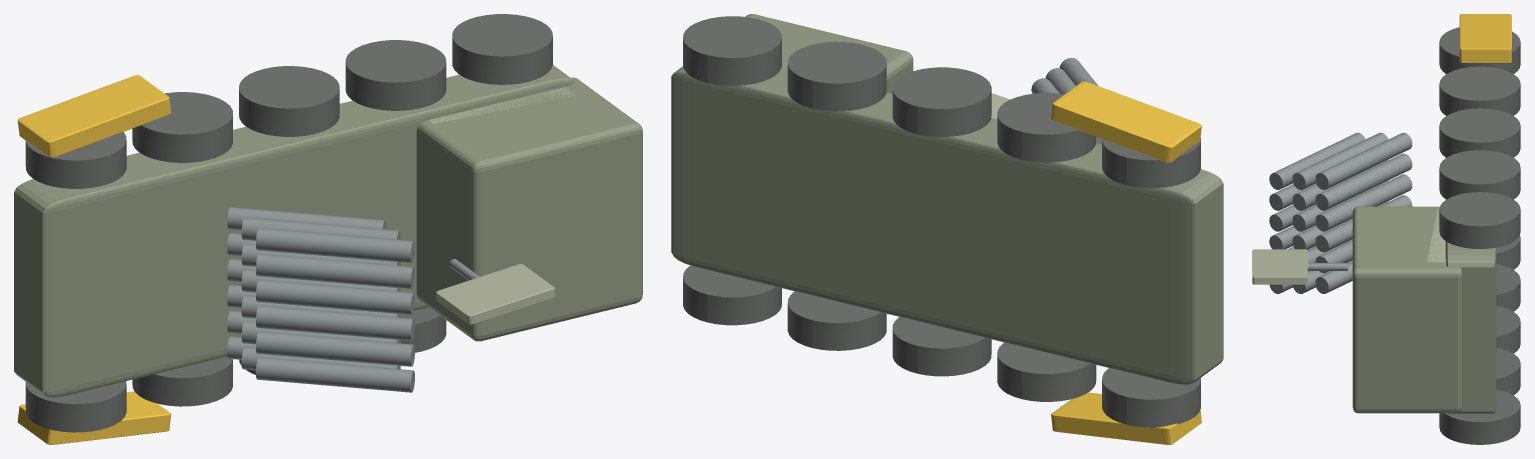
File: v-x03-vanguard-drone-lod1.glb
3 views of the same model, side by side, from view 1: azimuth 30°, elevation 25°; view 2: azimuth 150°, elevation 25°; view 3: azimuth 270°, elevation 25° (orthographic). The views are drawn at different scales.
Parts seen in each view (by area): view 1: strategic_lower, strategic_cab, strategic_jack_1, strategic_wheel_1_3, strategic_wheel_1_4, strategic_wheel_1_2, strategic_wheel_1_1, drone_control_array, strategic_wheel_1_0, strategic_wheel_-1_0, drone_cells_tube_15, drone_cells_tube_17 (+15 smaller); view 2: strategic_lower, strategic_jack_1, strategic_wheel_1_2, strategic_wheel_1_3, strategic_wheel_1_4, strategic_wheel_1_1, strategic_wheel_-1_0, strategic_wheel_-1_2, strategic_wheel_-1_3, strategic_wheel_-1_1, strategic_wheel_-1_4, strategic_jack_-1 (+3 smaller); view 3: strategic_cab, strategic_lower, strategic_wheel_1_4, strategic_wheel_1_2, strategic_wheel_1_1, strategic_wheel_1_3, strategic_wheel_-1_4, strategic_jack_1, drone_control_array, drone_cells_tube_5, drone_cells_tube_6, drone_cells_tube_4 (+19 smaller).
Boxes of the visible parts, box(x1,y1,x2,y2) form: strategic_lower: box(14, 65, 575, 397); strategic_cab: box(416, 77, 642, 341); strategic_jack_1: box(17, 75, 171, 157); strategic_wheel_1_3: box(345, 40, 446, 110); strategic_wheel_1_4: box(452, 14, 552, 84); strategic_wheel_1_2: box(239, 66, 339, 136); strategic_wheel_1_1: box(132, 92, 232, 162); drone_control_array: box(436, 264, 555, 324); strategic_wheel_1_0: box(25, 132, 126, 188); strategic_wheel_-1_0: box(25, 381, 126, 432); drone_cells_tube_15: box(256, 305, 414, 340); drone_cells_tube_17: box(256, 254, 414, 289); strategic_lower: box(671, 66, 1223, 384); strategic_jack_1: box(1051, 81, 1201, 162); strategic_wheel_1_2: box(892, 67, 991, 136); strategic_wheel_1_3: box(787, 41, 886, 111); strategic_wheel_1_4: box(683, 16, 781, 85); strategic_wheel_1_1: box(997, 93, 1096, 162); strategic_wheel_-1_0: box(1102, 368, 1200, 427); strategic_wheel_-1_2: box(892, 317, 991, 376); strategic_wheel_-1_3: box(787, 291, 886, 350); strategic_wheel_-1_1: box(997, 342, 1096, 401); strategic_wheel_-1_4: box(683, 265, 781, 325); strategic_jack_-1: box(1051, 392, 1201, 444); strategic_cab: box(1352, 206, 1462, 413); strategic_lower: box(1445, 74, 1496, 413); strategic_wheel_1_4: box(1439, 192, 1520, 248); strategic_wheel_1_2: box(1439, 108, 1520, 157); strategic_wheel_1_1: box(1439, 66, 1520, 115); strategic_wheel_1_3: box(1439, 150, 1520, 199); strategic_wheel_-1_4: box(1439, 389, 1520, 444); strategic_jack_1: box(1459, 14, 1511, 62); drone_control_array: box(1252, 249, 1307, 284); drone_cells_tube_5: box(1315, 153, 1412, 210); drone_cells_tube_6: box(1315, 132, 1412, 189); drone_cells_tube_4: box(1315, 174, 1412, 231).
Size of what is drawn, in the model's own units: 9.22 by 5.41 by 4.9.
